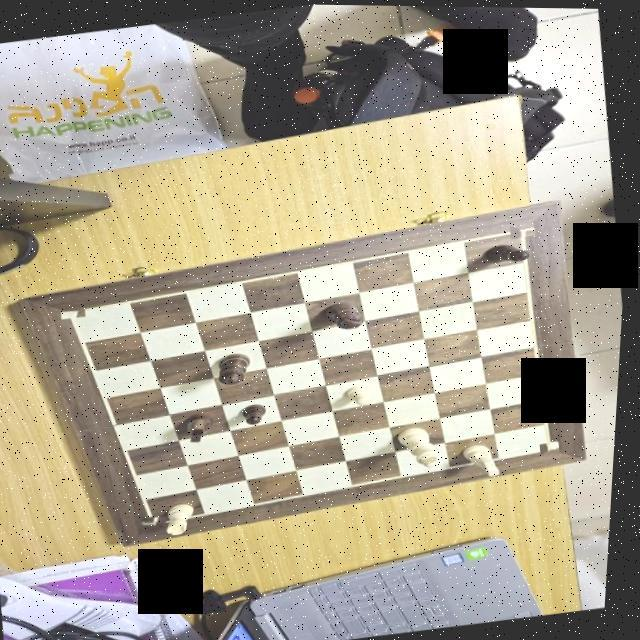chess-table-corners: (512, 219, 538, 235), (148, 513, 174, 528), (544, 437, 566, 454), (64, 304, 90, 317)
